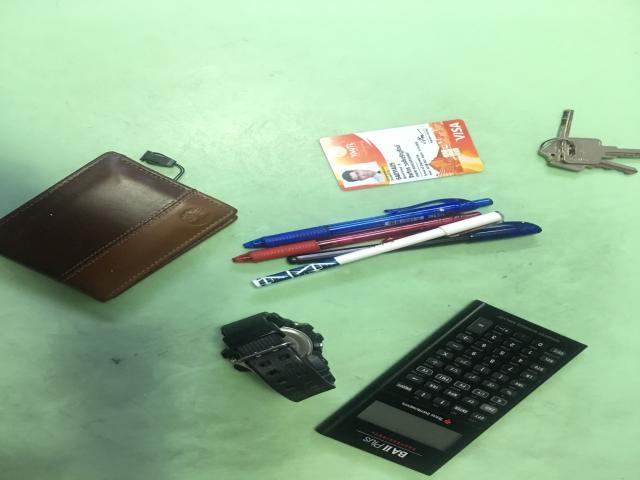Keys: (538, 110, 640, 174)
Pen: (233, 200, 548, 289)
Wallet: (2, 152, 237, 301)
Watch: (222, 312, 335, 402)
